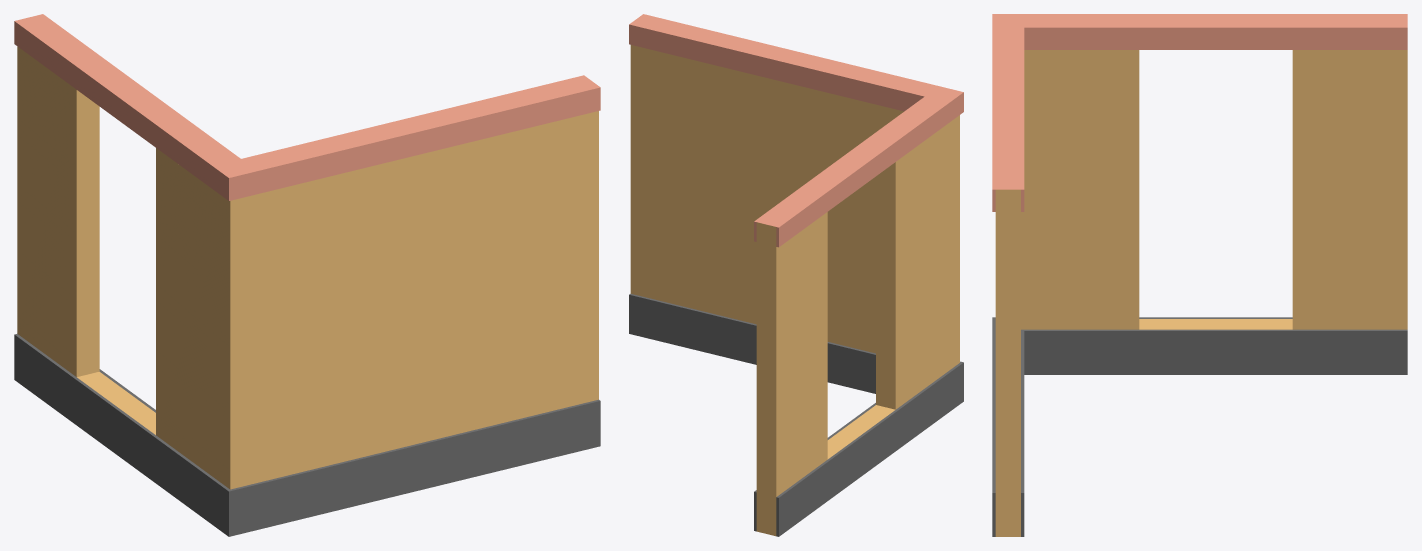
Rendered from Wall01-06.fbx.
3 renders of one model, left to right at view 1: azimuth 30°, elevation 25°; view 2: azimuth 150°, elevation 25°; view 3: azimuth 270°, elevation 25°, orthographic. The views are drawn at different scales.
Visible parts, largest first — view 1: Wall01-06; view 2: Wall01-06; view 3: Wall01-06.
Part boxes in pixels (x1,y1,x2,y2): Wall01-06: (14, 14, 600, 536); Wall01-06: (629, 14, 963, 536); Wall01-06: (992, 14, 1407, 536).
Bounding box in the file's own units: 3.25 × 3.25 × 3.
